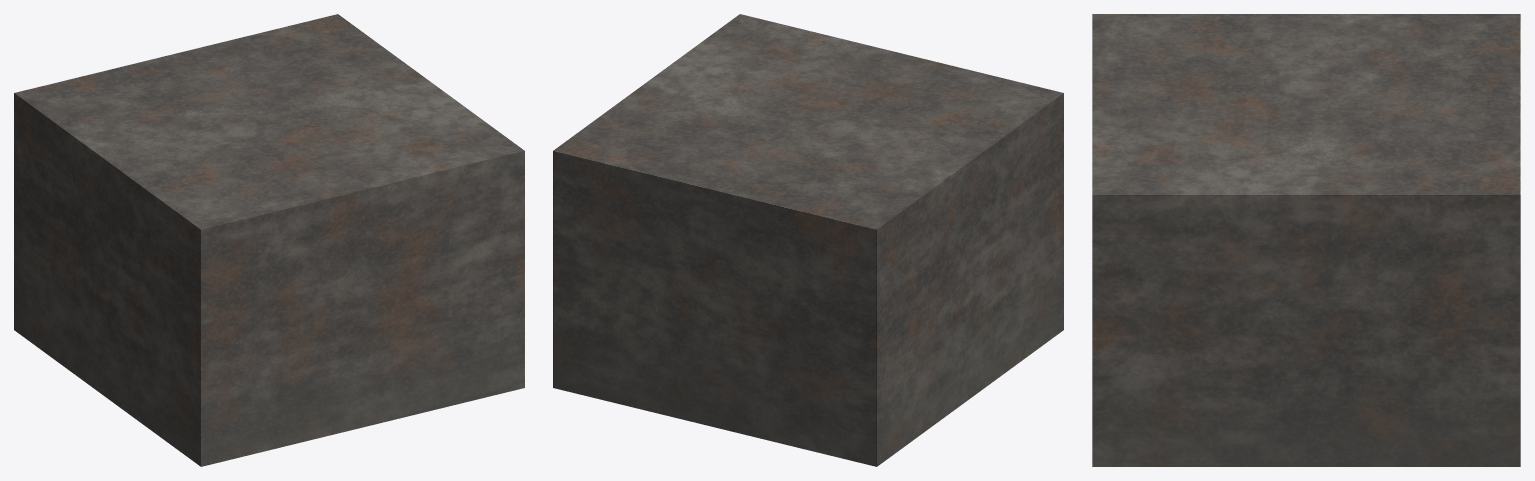
File: dungeon_plinth_b.glb
3 renders of one model, left to right at view 1: azimuth 30°, elevation 25°; view 2: azimuth 150°, elevation 25°; view 3: azimuth 270°, elevation 25°, orthographic. The views are drawn at different scales.
Visible parts, largest first — view 1: dungeon_plinth_b; view 2: dungeon_plinth_b; view 3: dungeon_plinth_b.
Part boxes in pixels (x1,y1,x2,y2): dungeon_plinth_b: (14,14,524,466); dungeon_plinth_b: (553,14,1063,466); dungeon_plinth_b: (1092,14,1520,466).
Bounding box in the file's own units: 5 × 3.5 × 5.
1 material, 1 textured.
